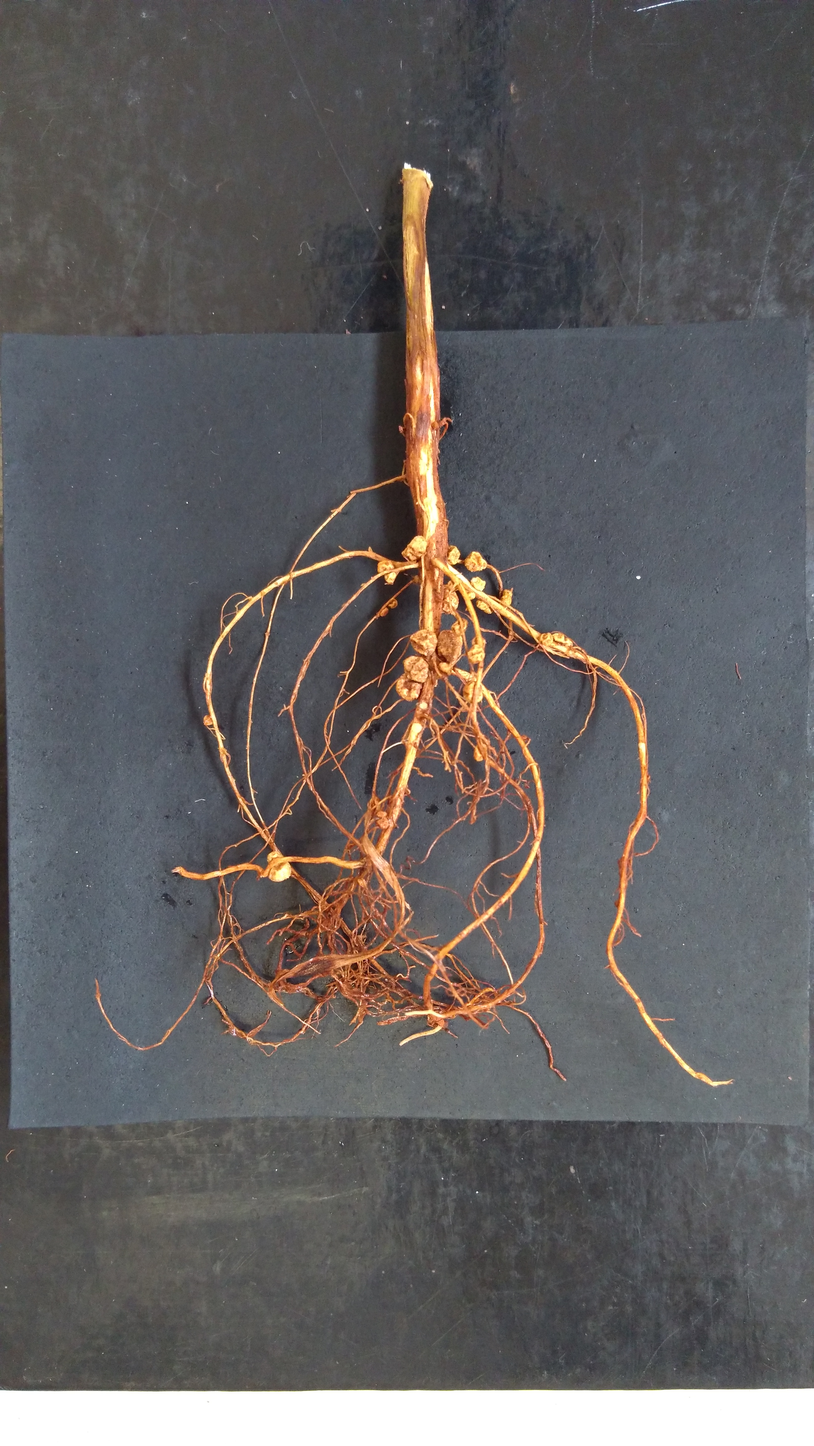nodule: (436, 629, 463, 663), (266, 849, 292, 883), (408, 628, 438, 657), (400, 655, 429, 683), (400, 534, 428, 562), (394, 679, 423, 703), (441, 583, 460, 615), (463, 550, 488, 573), (461, 680, 484, 704), (466, 643, 486, 665), (450, 617, 469, 637), (446, 544, 461, 567), (375, 559, 395, 574), (469, 576, 486, 592), (476, 600, 493, 615), (470, 635, 487, 648), (472, 745, 484, 763), (383, 571, 397, 586), (437, 662, 453, 675), (375, 817, 390, 830), (540, 632, 553, 647), (501, 589, 512, 606), (552, 631, 565, 644), (387, 598, 398, 609), (563, 637, 573, 648), (203, 714, 213, 725), (375, 810, 388, 818), (379, 607, 389, 617), (467, 592, 476, 601)
